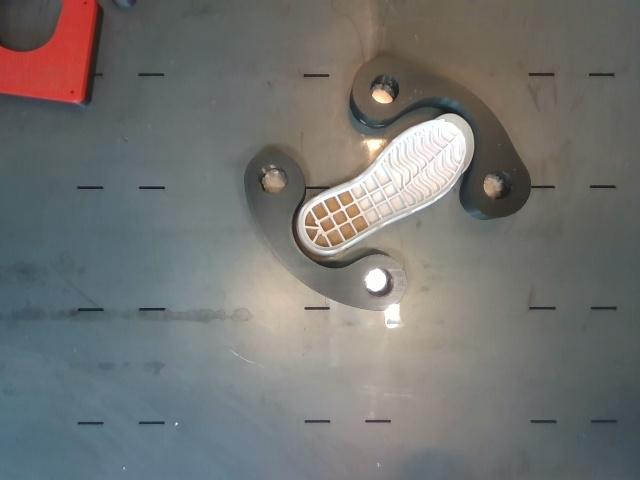shoes: (301, 115, 474, 252)
